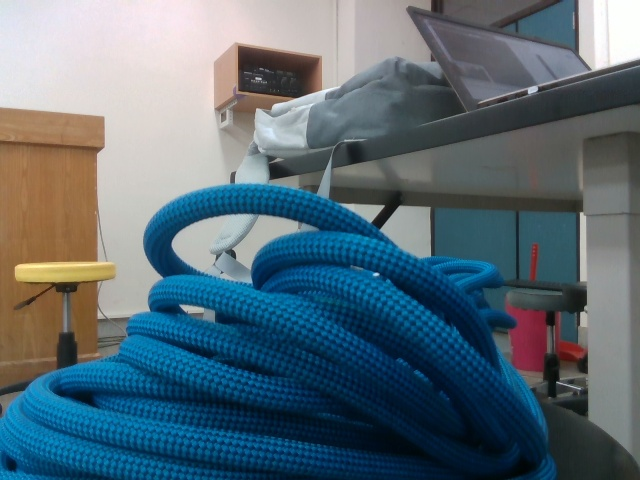rope: (1, 176, 567, 480)
